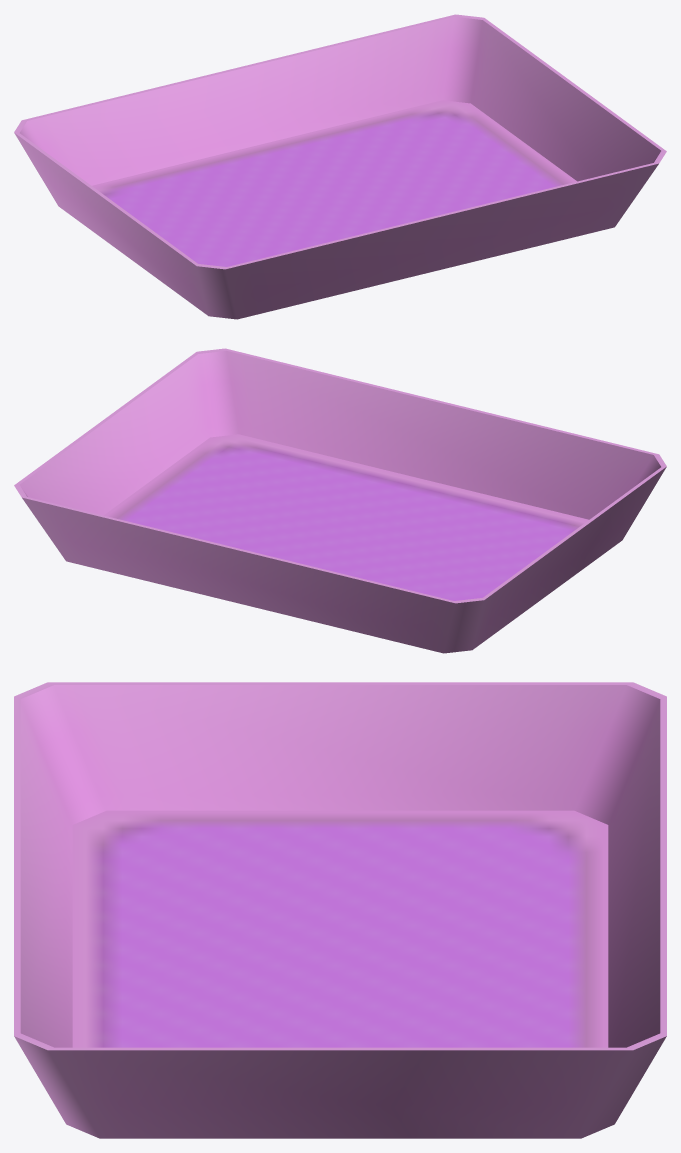
Rendered from jsf_Carton_06.fbx.
The picture shows the model from 3 angles, top to bottom: view 1: azimuth 30°, elevation 25°; view 2: azimuth 150°, elevation 25°; view 3: azimuth 270°, elevation 25°; orthographic projection. The views are drawn at different scales.
Parts seen in each view (by area): view 1: jsf_Carton_06; view 2: jsf_Carton_06; view 3: jsf_Carton_06.
Part boxes in pixels (box(x1,y1,x2,y2)): jsf_Carton_06: box(14, 14, 666, 319); jsf_Carton_06: box(14, 348, 666, 653); jsf_Carton_06: box(14, 682, 666, 1138).
Bounding box in the file's own units: 20 × 2.8 × 15.
